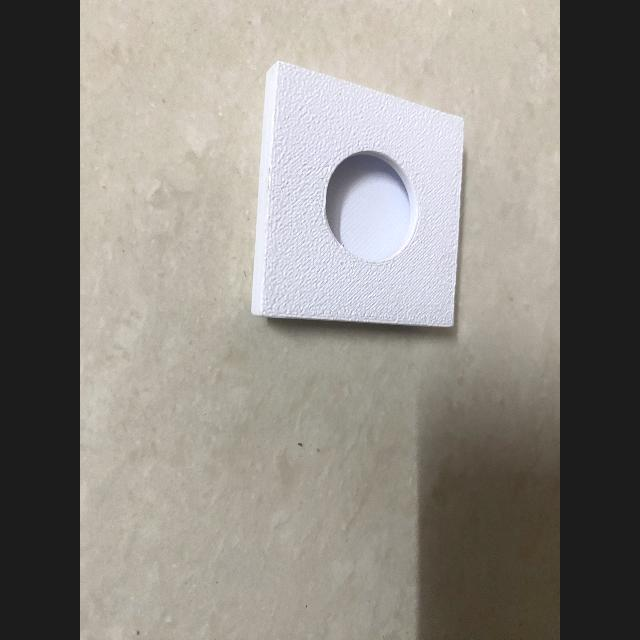RASPBERY PI CAM ENCLOSURE: (252, 60, 464, 328)
